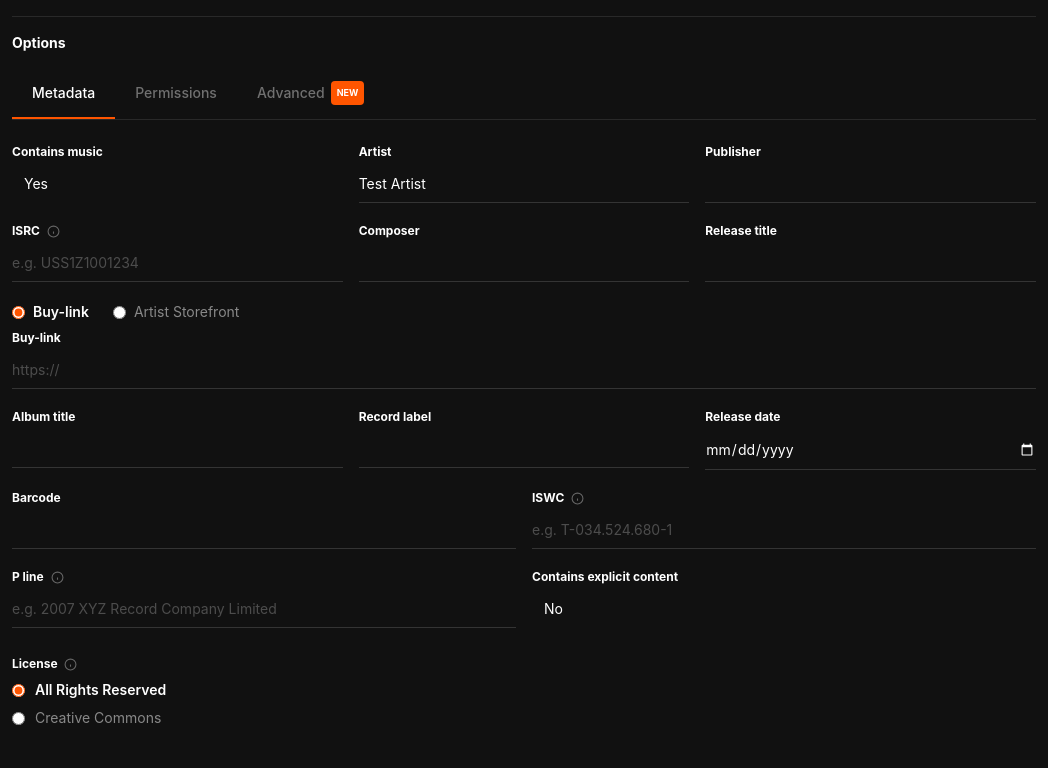
it: UploadOptionsPanel › switches to Advanced tab
Click the button with test id "options-tab-advanced" at [311, 94], box [237,69,384,119]
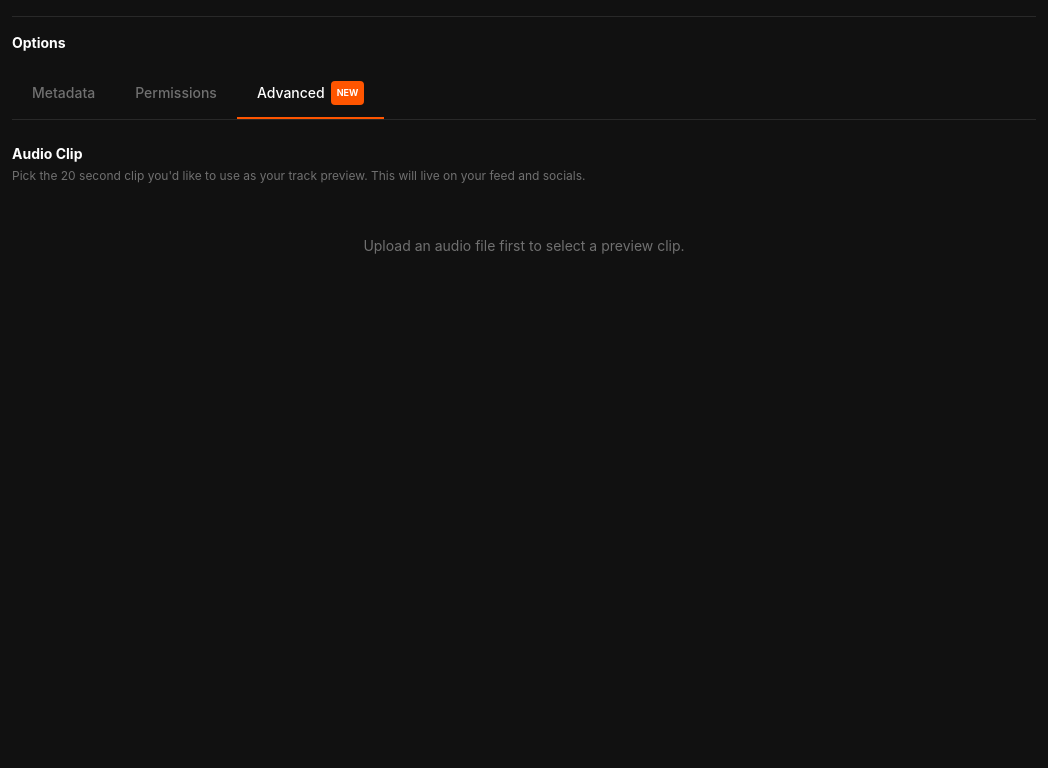
Now the element with test id "options-advanced-tab" is shown, box [12,145,685,254]
Now the element with test id "options-metadata-tab" is gone
